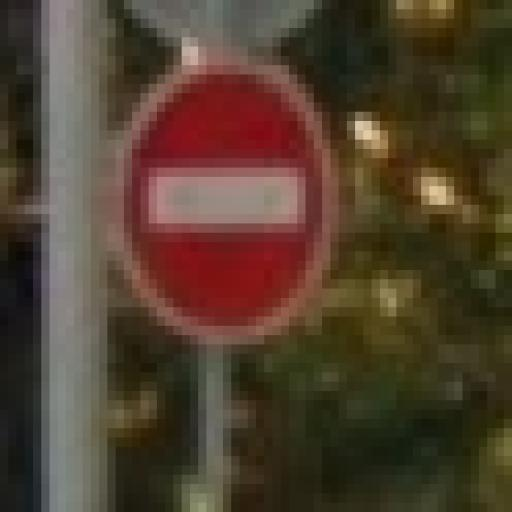traffic_sign: (109, 57, 340, 345)
